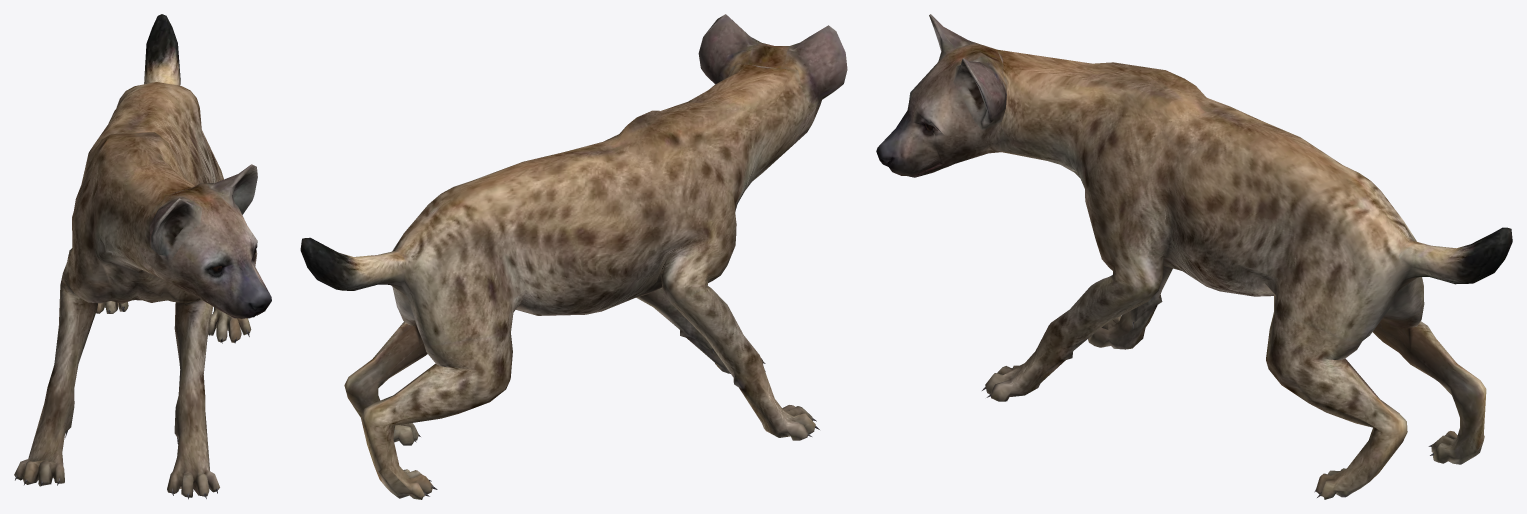
The model's file is hyena.glb.
3 renders of one model, left to right at view 1: azimuth 30°, elevation 25°; view 2: azimuth 150°, elevation 25°; view 3: azimuth 270°, elevation 25°, orthographic. The views are drawn at different scales.
Parts seen in each view (by area): view 1: Hyena001_applied_clean_M_Hyena_0_M_Hyena_0; view 2: Hyena001_applied_clean_M_Hyena_0_M_Hyena_0; view 3: Hyena001_applied_clean_M_Hyena_0_M_Hyena_0.
Boxes of the visible parts, bbox=[...] form: Hyena001_applied_clean_M_Hyena_0_M_Hyena_0: bbox=[14, 14, 271, 499]; Hyena001_applied_clean_M_Hyena_0_M_Hyena_0: bbox=[300, 14, 847, 499]; Hyena001_applied_clean_M_Hyena_0_M_Hyena_0: bbox=[876, 14, 1512, 499].
Size of the model in its own units: 1.11 by 1.06 by 1.7.
1 material, 1 textured.
